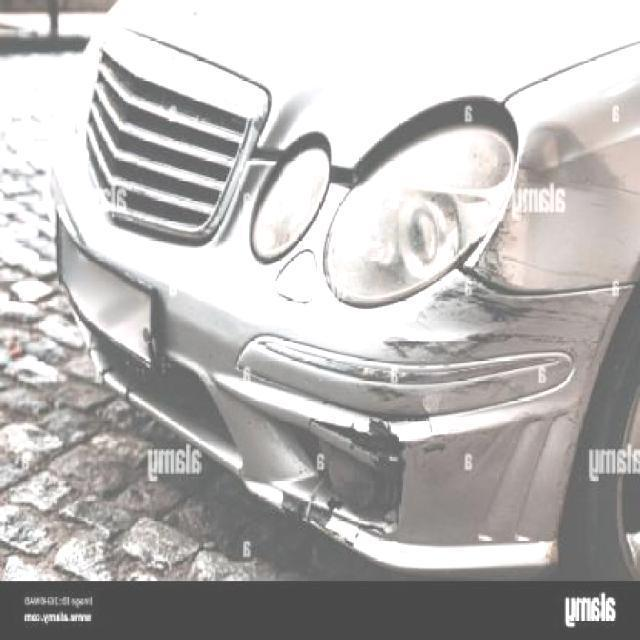minor: (475, 129, 629, 294)
moderate: (214, 374, 575, 546), (382, 326, 522, 362), (440, 286, 540, 323)
